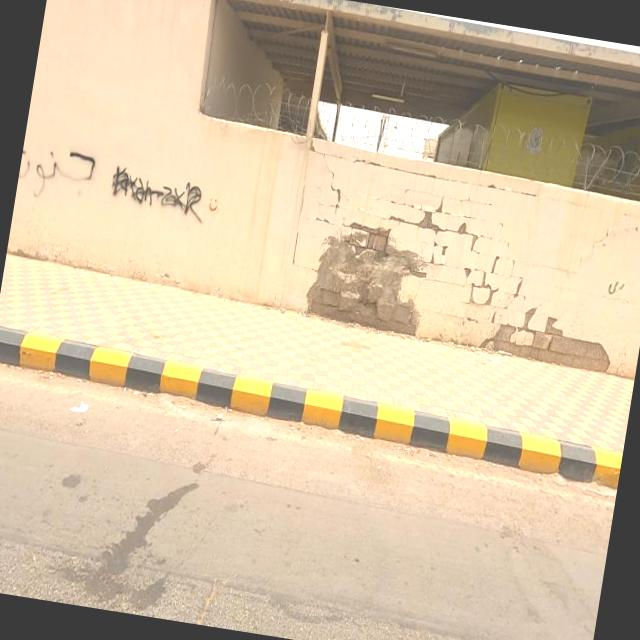debris: (3, 56, 342, 322), (234, 106, 501, 431), (355, 170, 640, 447)
